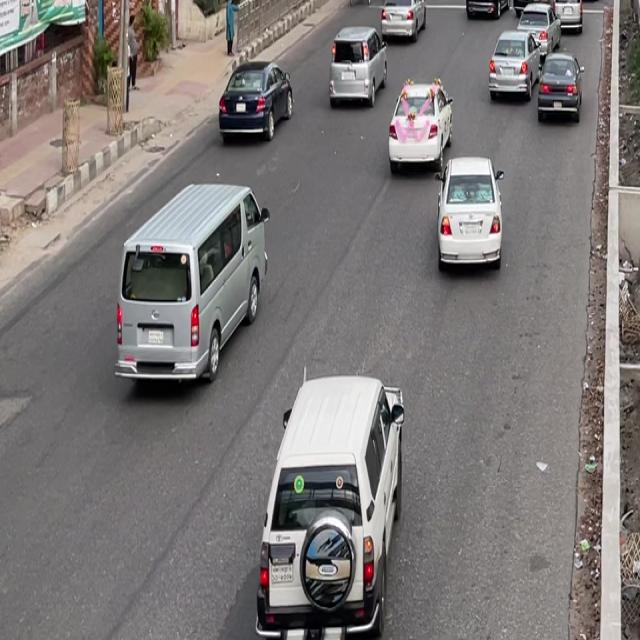car: (248, 360, 409, 627), (103, 173, 269, 402), (429, 144, 511, 278), (211, 47, 298, 152), (384, 70, 457, 182), (323, 19, 389, 112), (531, 46, 586, 132), (486, 22, 537, 107), (376, 0, 429, 46), (552, 0, 584, 39), (462, 0, 503, 22), (514, 0, 551, 14), (568, 0, 606, 2)
